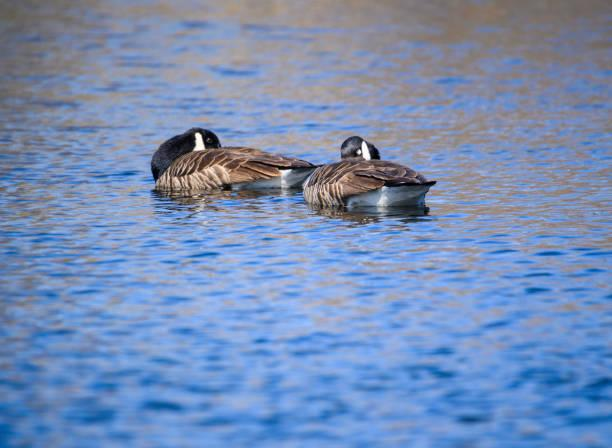Canadian-Goose: (148, 126, 307, 200), (301, 137, 433, 214)
